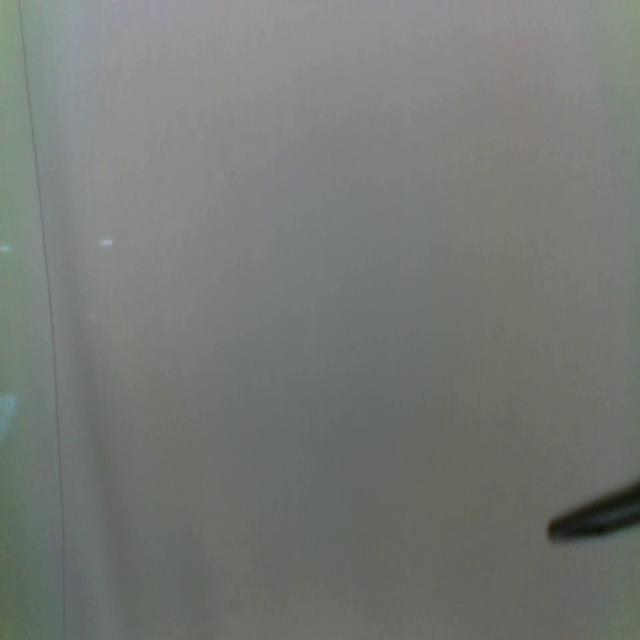crease: (17, 0, 67, 639)
